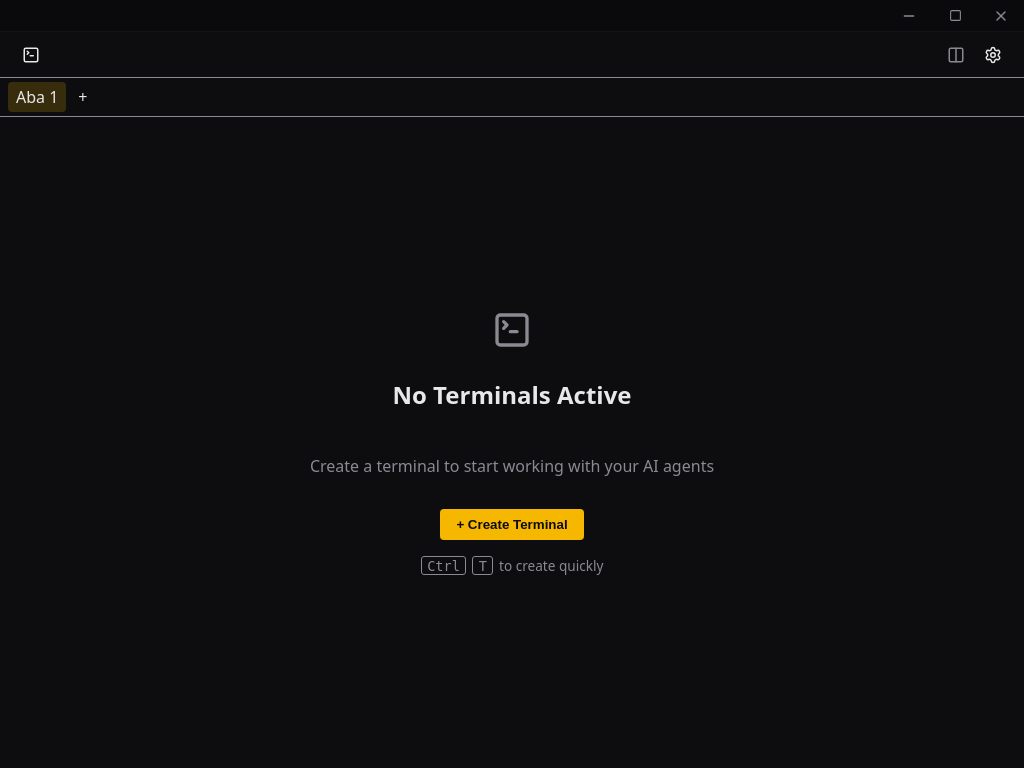
Test: App - shell-chrome wiring › Header's "settings" icon opens Settings as an overlay over the main window (HDR-08, SET-01)
The width and height of the screenshot is (1024, 768).
Expected: the dialog "Configurações" is not shown
Click the button named "settings" at (993, 55), box [979,40,1008,69]
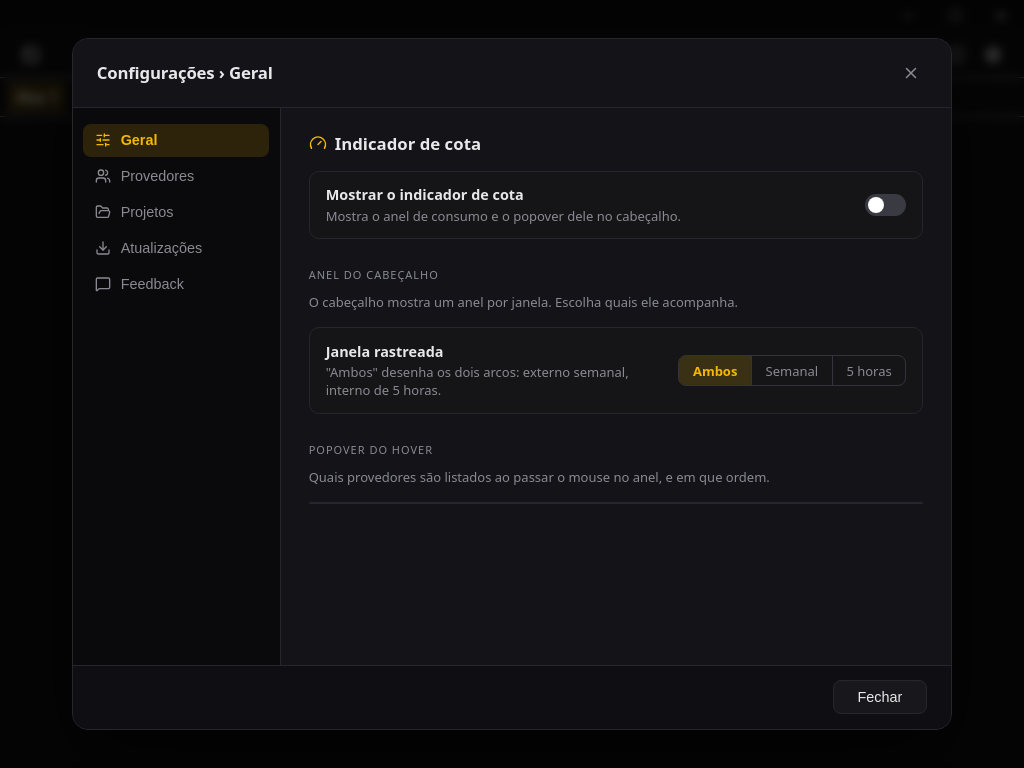
Expected: the dialog "Configurações" is shown
